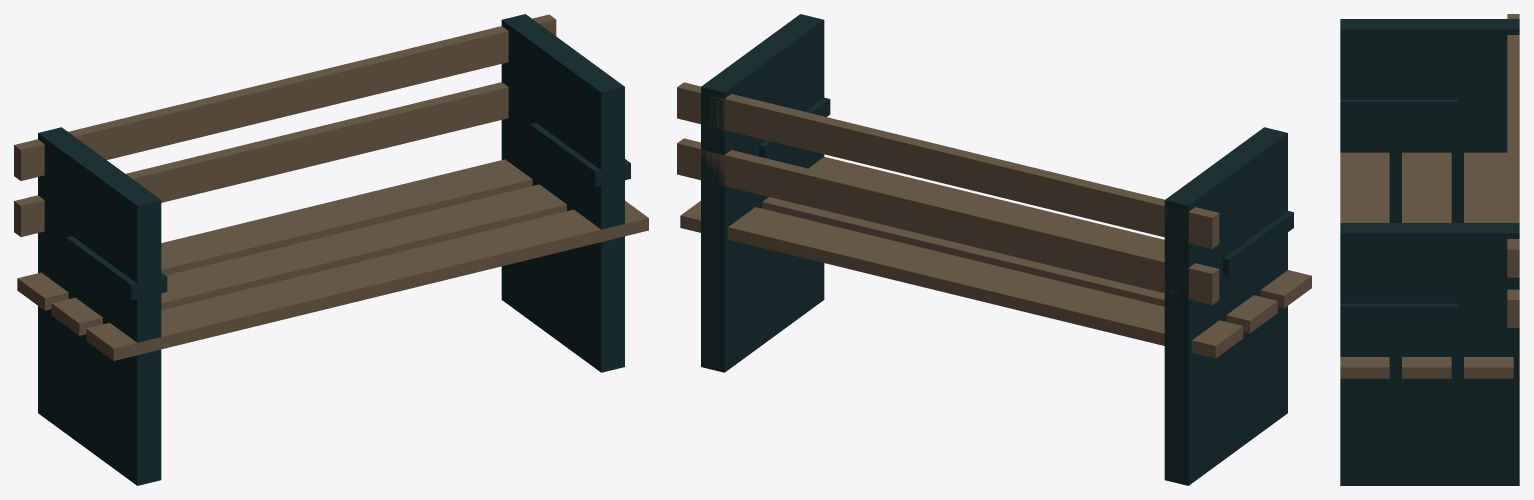
Rendered from oc_bench_01.glb.
The picture shows the model from 3 angles, left to right: view 1: azimuth 30°, elevation 25°; view 2: azimuth 150°, elevation 25°; view 3: azimuth 270°, elevation 25°; orthographic projection. The views are drawn at different scales.
Parts seen in each view (by area): view 1: LOD1_OC_Painted_Wood, LOD1_OC_Charcoal; view 2: LOD1_OC_Painted_Wood, LOD1_OC_Charcoal; view 3: LOD1_OC_Charcoal, LOD1_OC_Painted_Wood.
Boxes of the visible parts, x1=… form: LOD1_OC_Painted_Wood: x1=14, y1=14, x2=648, y2=360; LOD1_OC_Charcoal: x1=38, y1=14, x2=630, y2=485; LOD1_OC_Painted_Wood: x1=677, y1=82, x2=1311, y2=358; LOD1_OC_Charcoal: x1=701, y1=14, x2=1293, y2=485; LOD1_OC_Charcoal: x1=1340, y1=19, x2=1519, y2=485; LOD1_OC_Painted_Wood: x1=1340, y1=14, x2=1519, y2=378.
Size of the model in its own units: 1.8 by 0.9 by 0.58.
